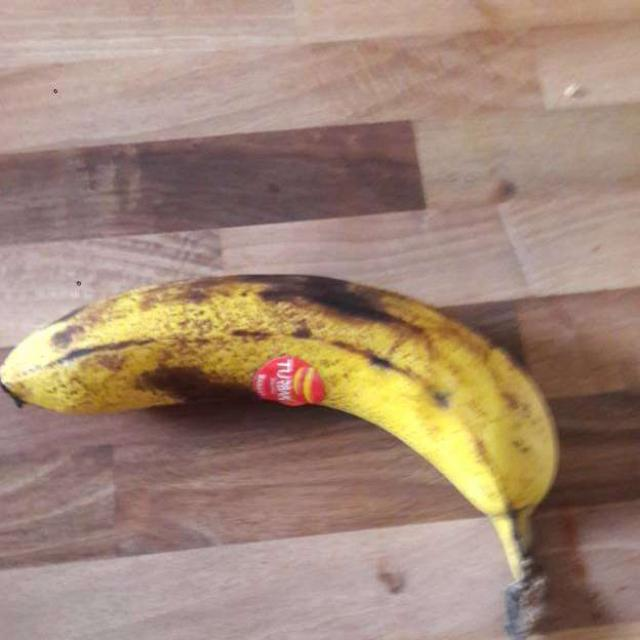banana: (18, 286, 542, 539)
